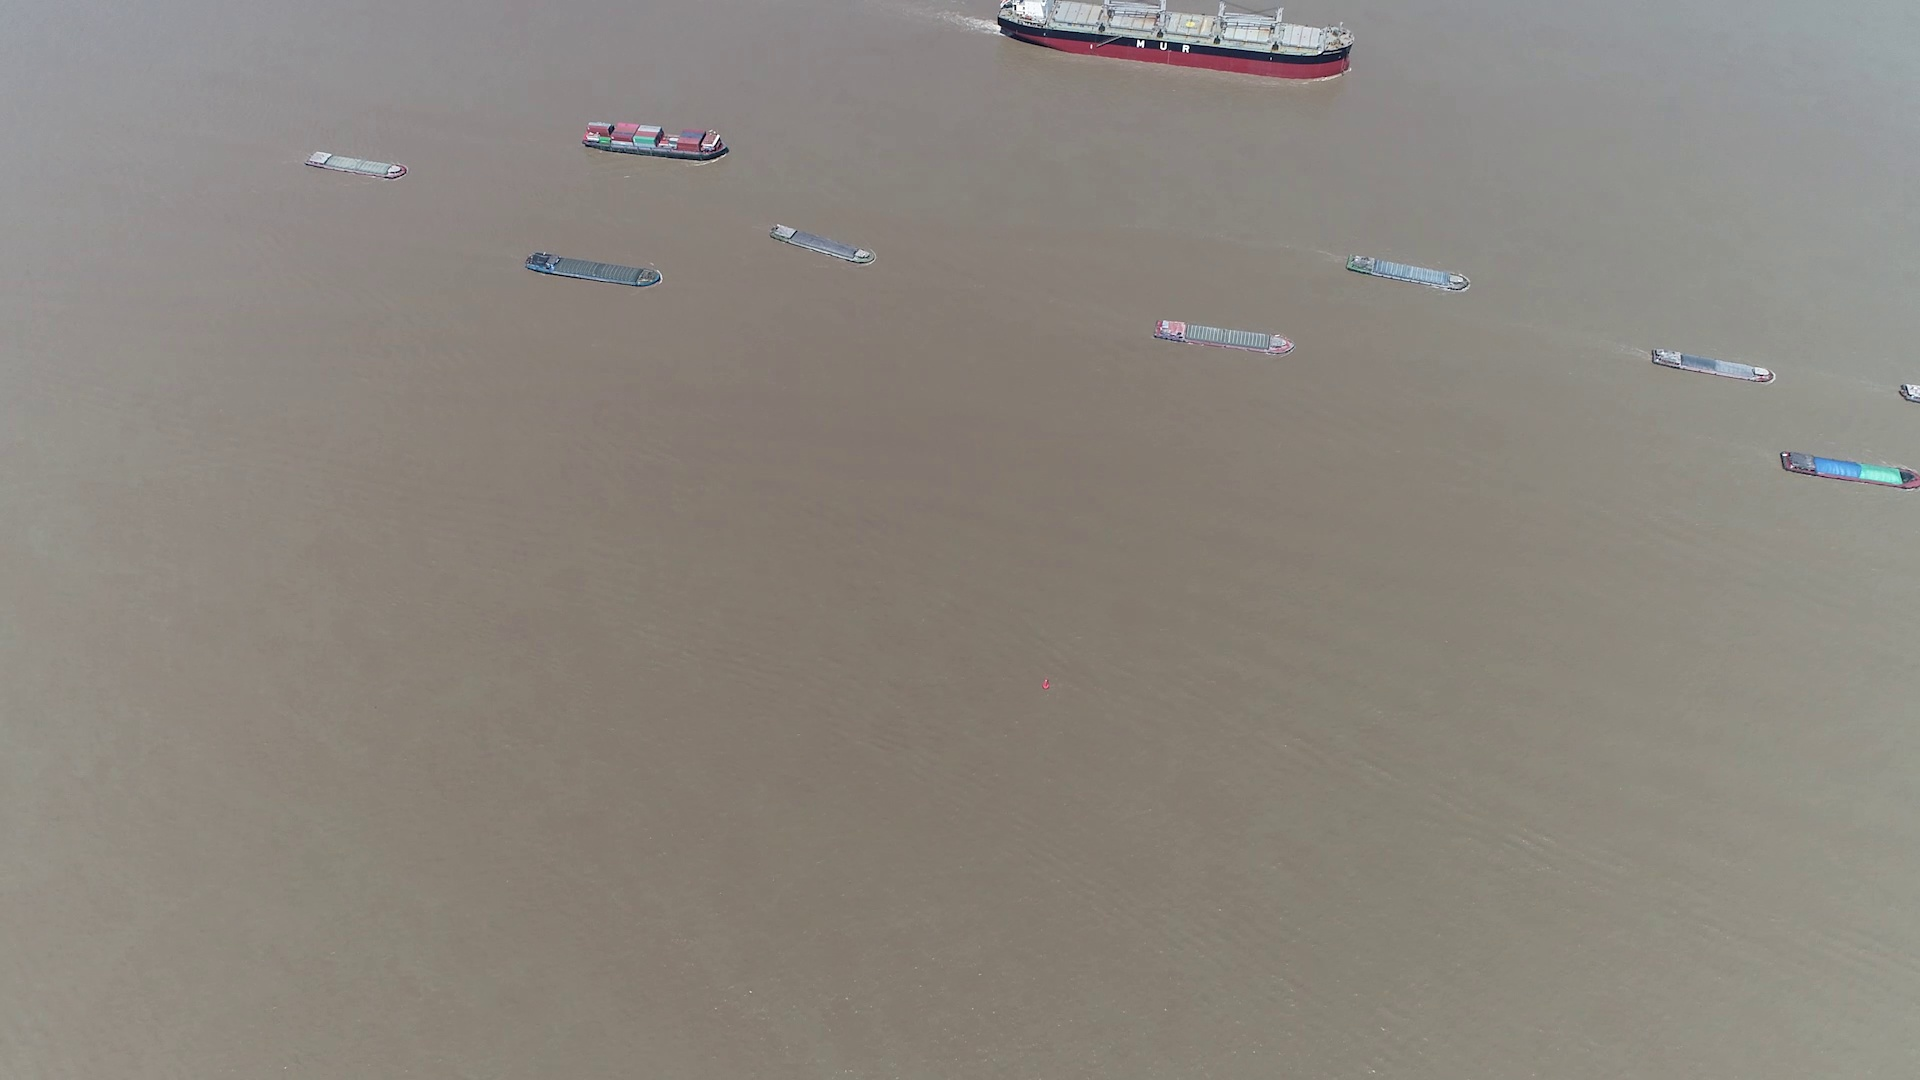ship: (996, 0, 1356, 79), (1778, 447, 1920, 491), (582, 123, 729, 161), (524, 253, 662, 290), (1344, 253, 1470, 293), (1154, 318, 1294, 353), (1648, 347, 1779, 384), (770, 225, 876, 266), (305, 152, 406, 179), (1898, 382, 1919, 405)
